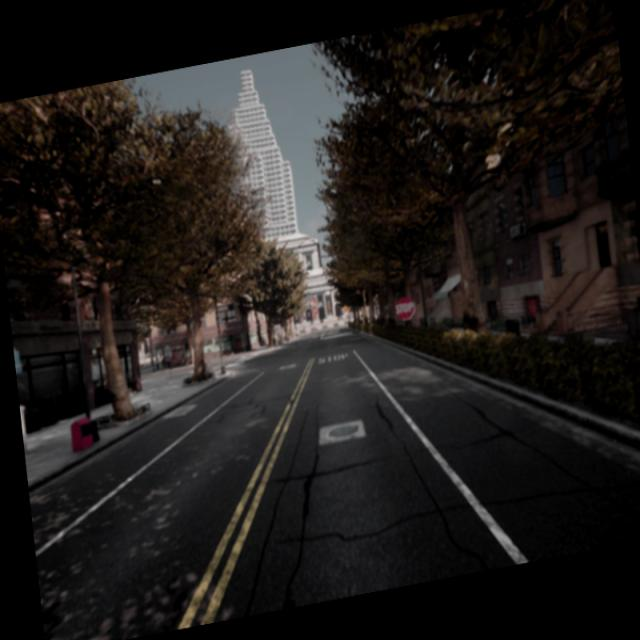stop sign: (392, 292, 417, 324)
